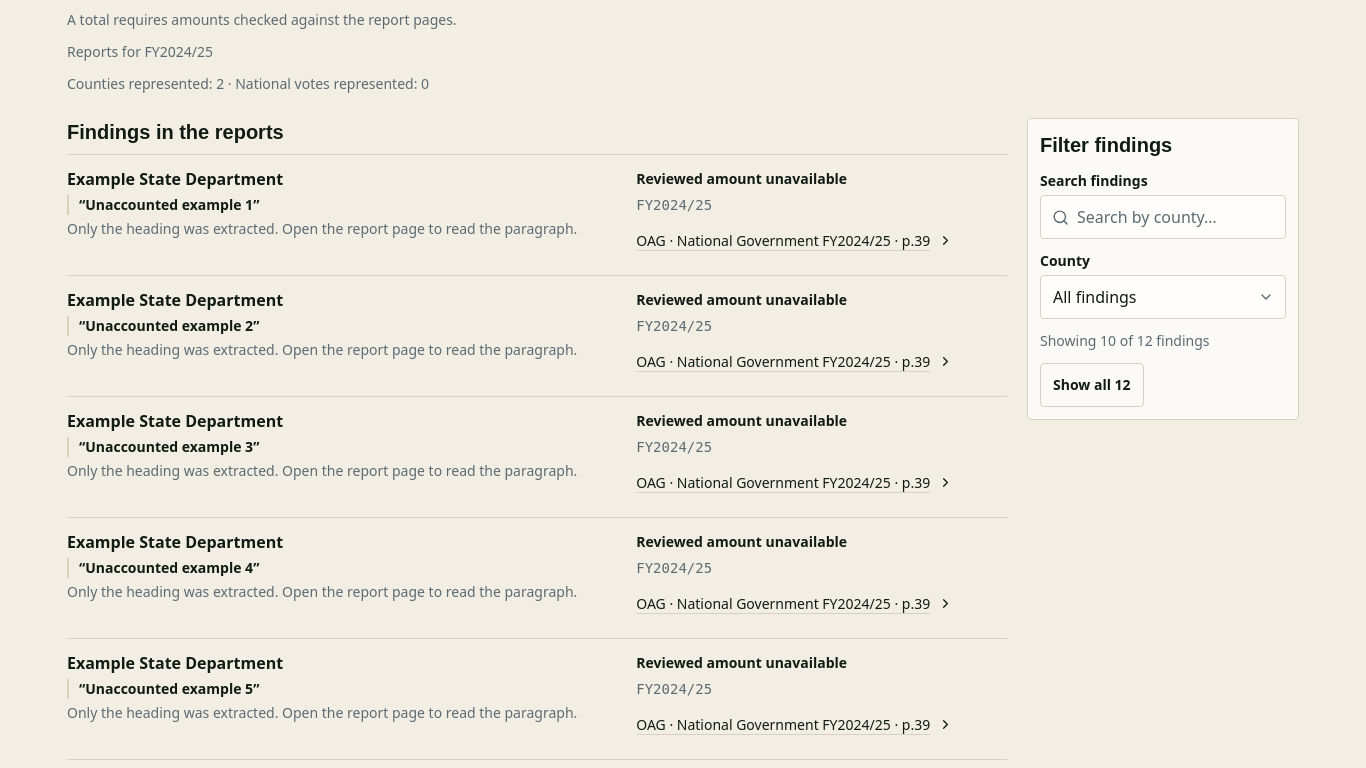
Test: the unaccounted-funds page › shows ten findings by default and searches the full report collection and county metadata
(page scrolled)
Click the button "Show all 12" at (1092, 385), box [1040,363,1144,407]
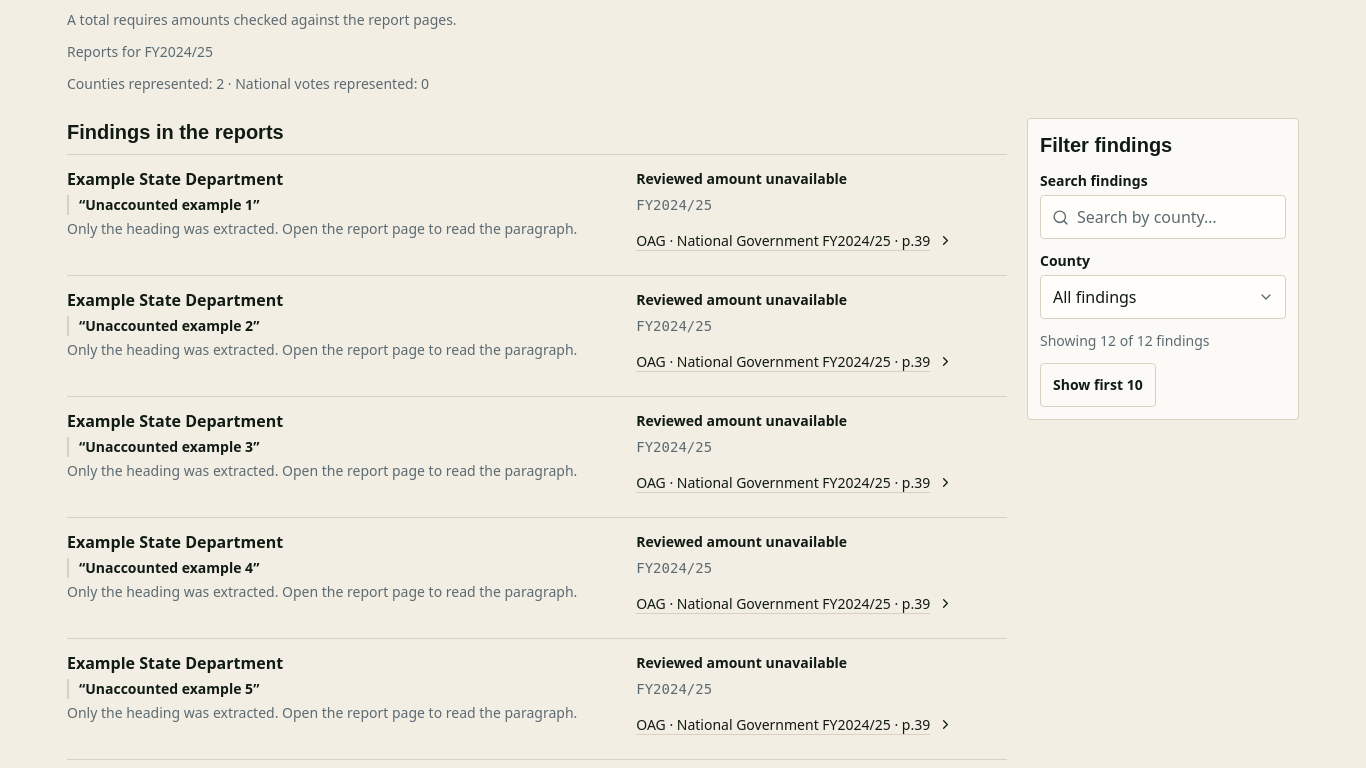
Click the button "Show first 10" at (1098, 385), box [1040,363,1156,407]
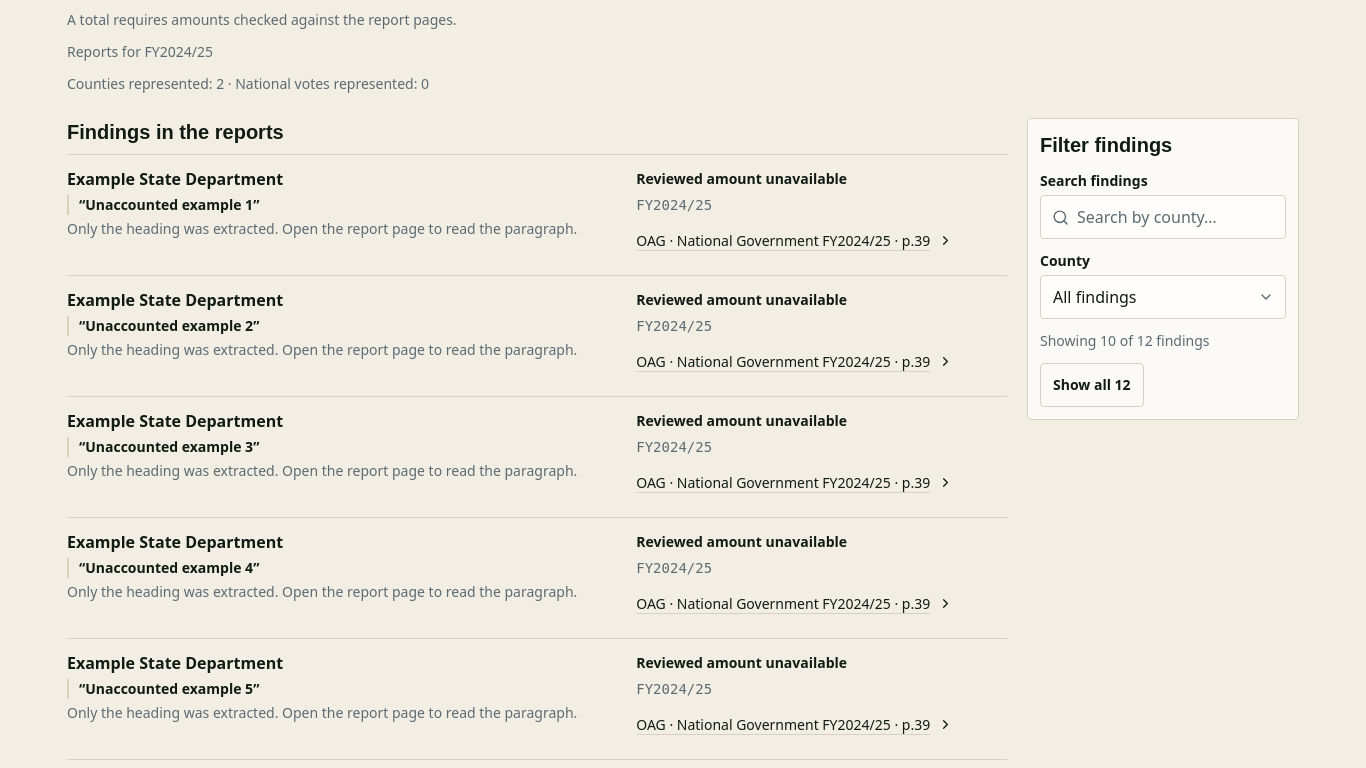
Type "example 12" into the search field labelled "Search findings" at (1163, 217), box [1040,195,1286,239]
(page scrolled)
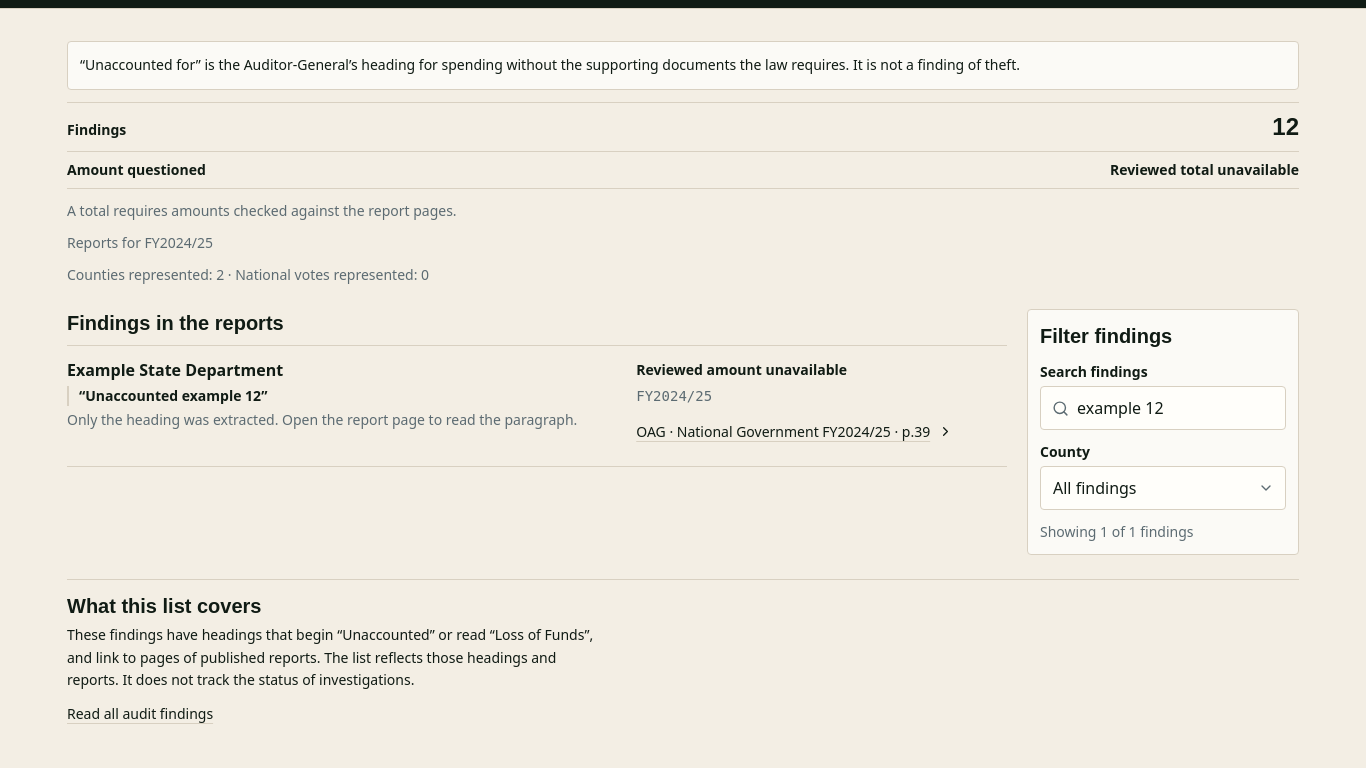
Expected: the text "“Unaccounted example 12”" is shown, [79,386,267,405]
Clear the search field labelled "Search findings" at (1163, 408), box [1040,386,1286,430]
(page scrolled)
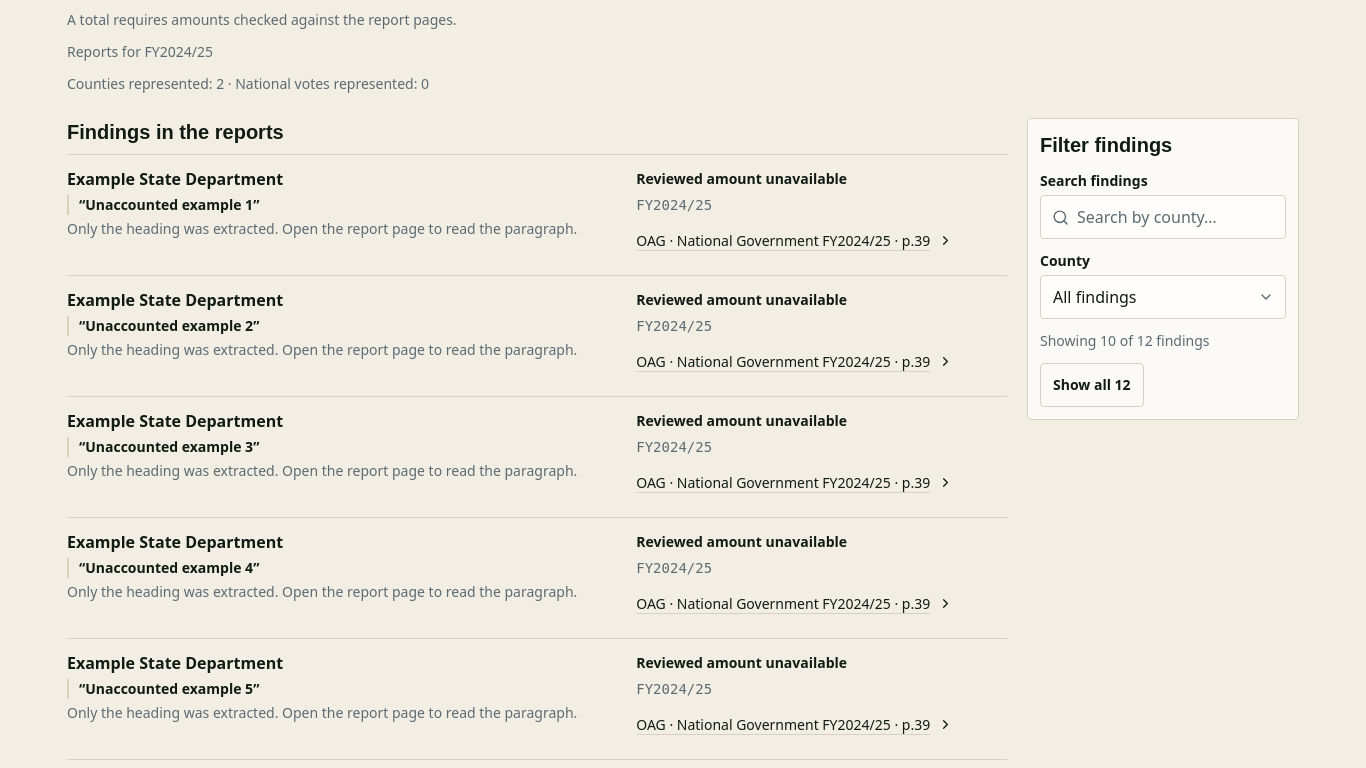
Select "Example North" in the dropdown labelled "County" at (1163, 297), box [1040,275,1286,319]
(page scrolled)
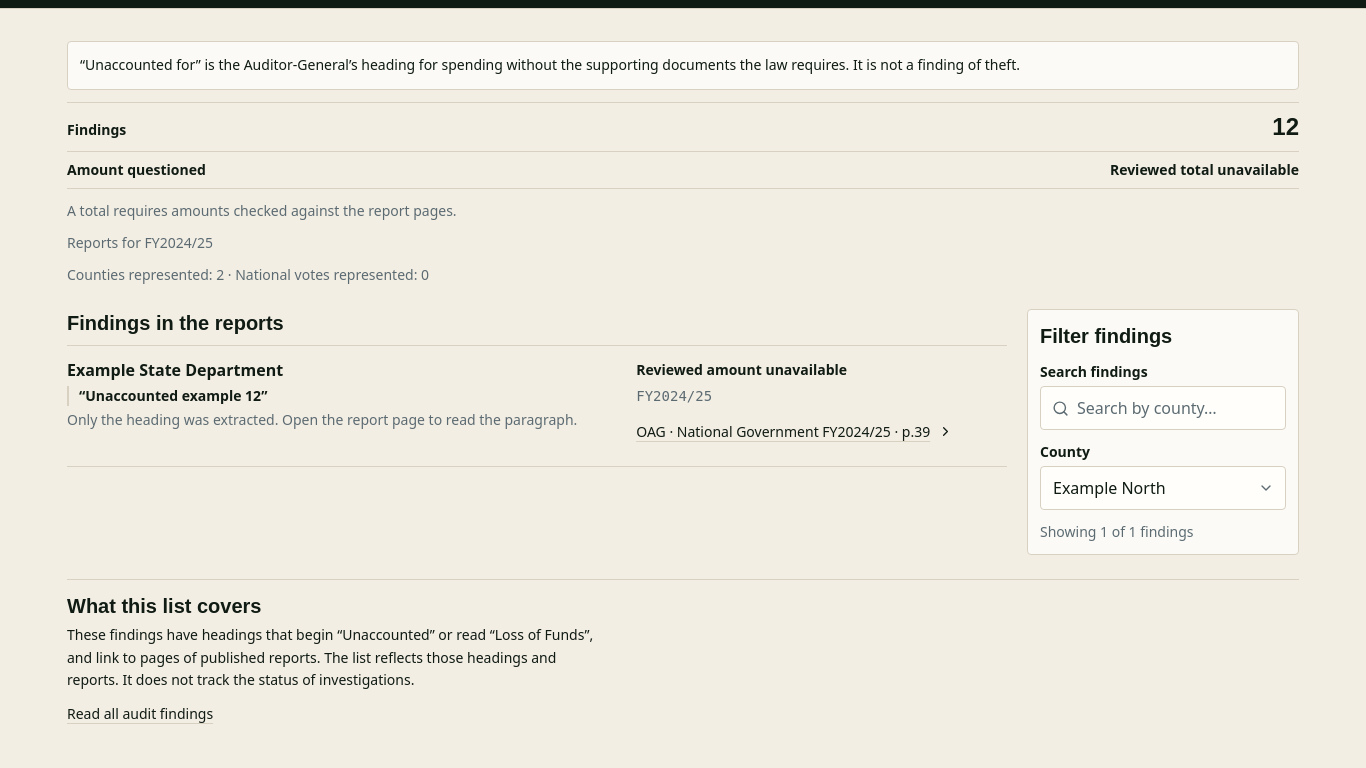
Expected: the text "“Unaccounted example 12”" is shown, [79,386,267,405]
